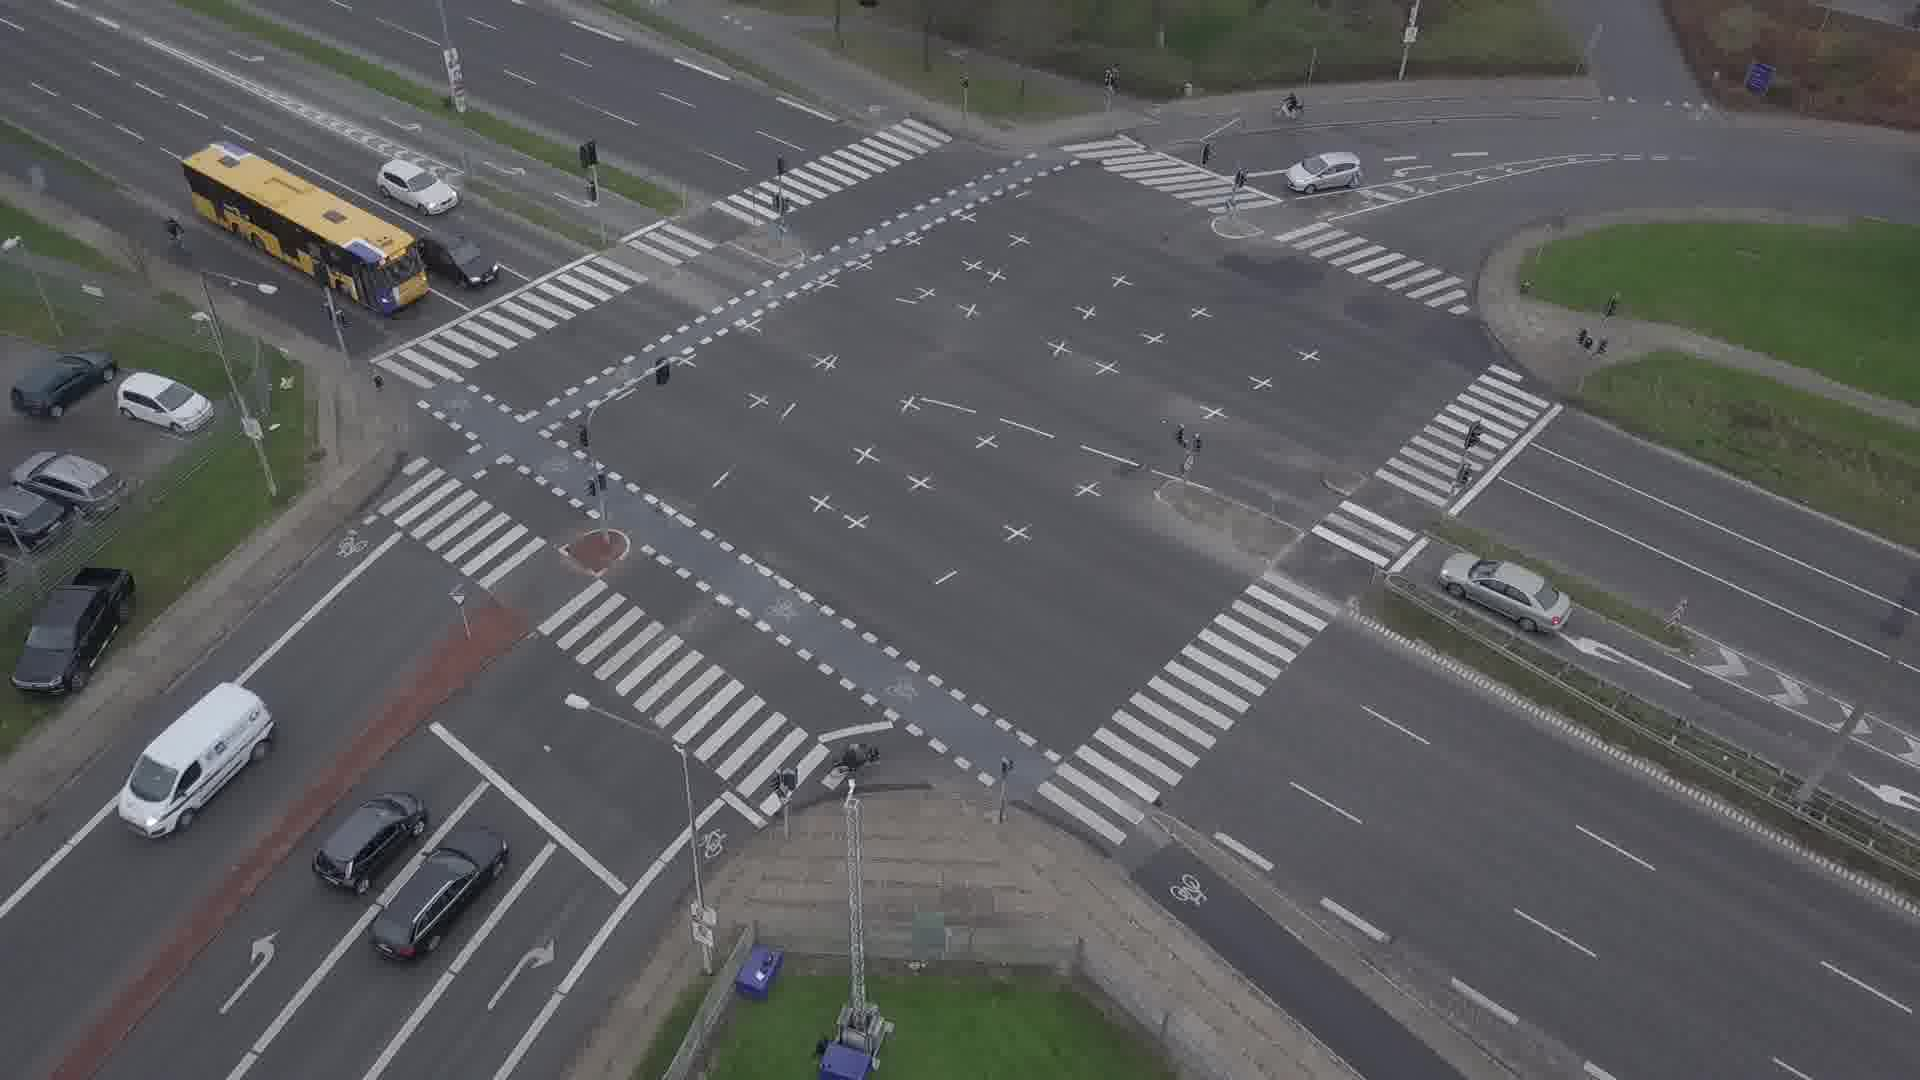bicycle: (832, 742, 889, 777), (1270, 93, 1307, 120), (161, 216, 189, 251)
bus: (182, 139, 430, 313)
car: (371, 822, 510, 964), (311, 792, 428, 896), (1439, 552, 1574, 634), (418, 229, 500, 289), (377, 159, 458, 215), (1285, 152, 1365, 194)
lorry: (117, 682, 274, 838)
